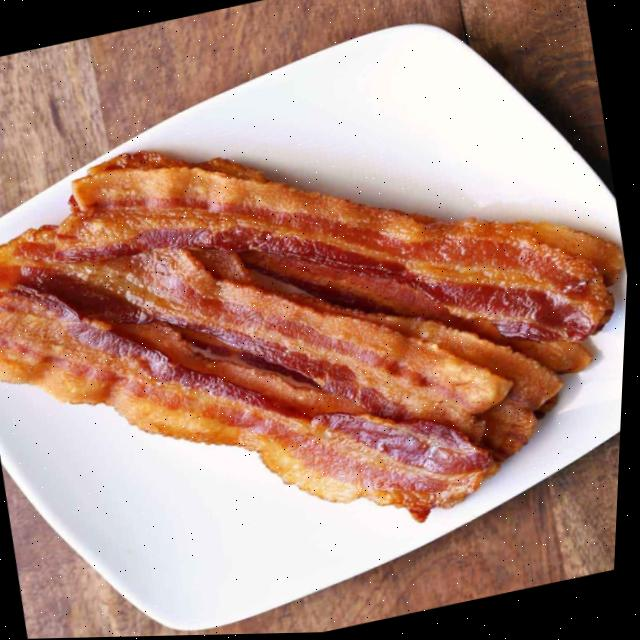Bacon: (0, 152, 622, 373), (0, 287, 498, 514), (24, 248, 515, 444)
